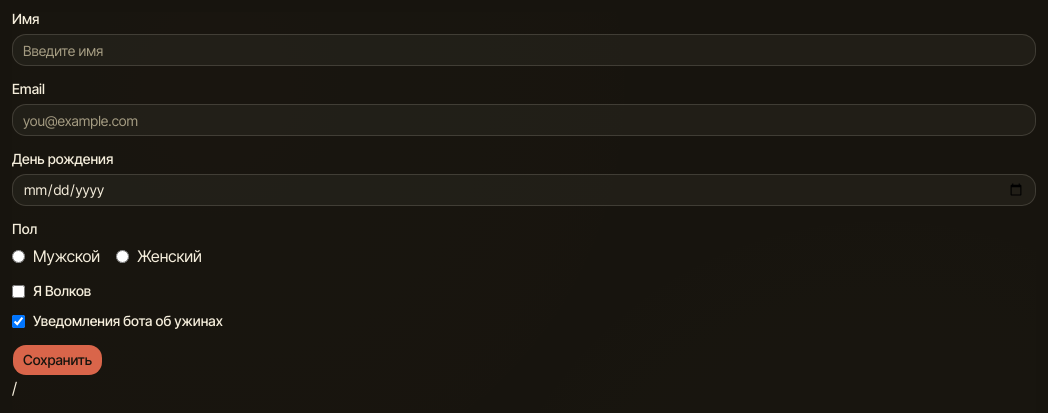
Test: ProfileForm › изменение поля скрывает индикатор 'Сохранено'
The width and height of the screenshot is (1048, 413).
Step 1. Click the button "Сохранить" → (58, 360), box x1=12 y1=344 x2=103 y2=376
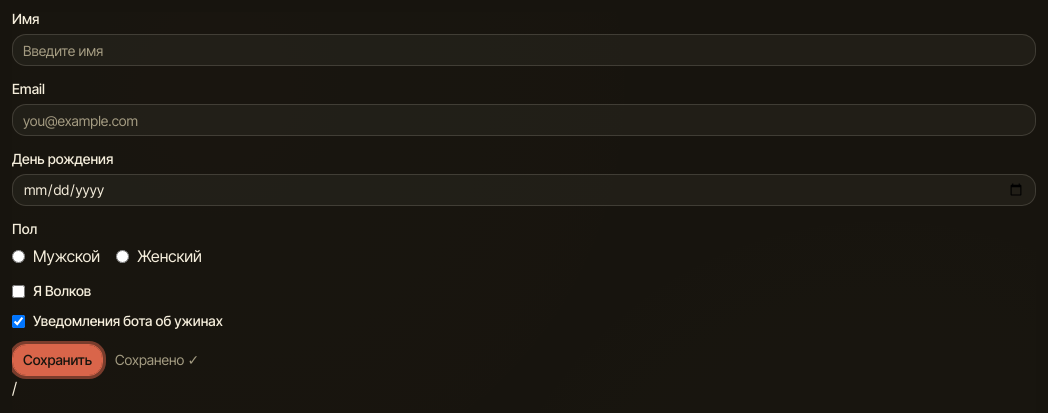
Expected: the text "Сохранено ✓" is shown, x1=115 y1=350 x2=199 y2=370
Step 2. Type "Н" into the field labelled "Имя" → (524, 50), box x1=12 y1=34 x2=1036 y2=66
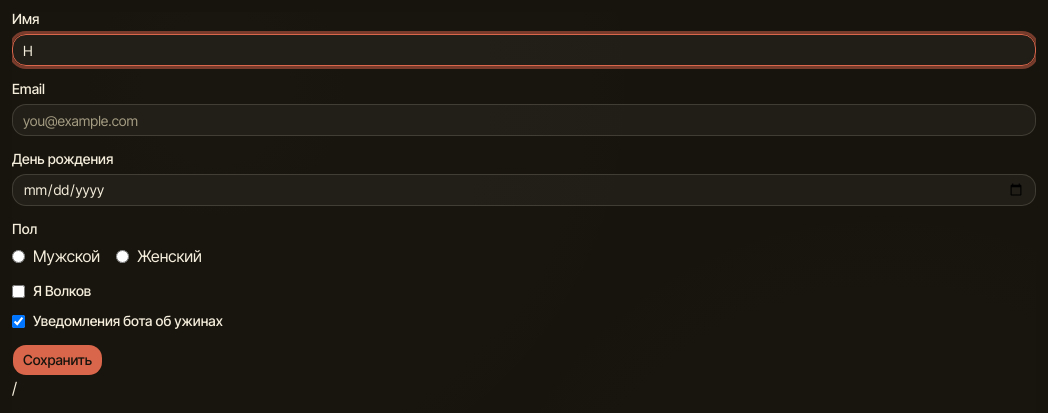
Expected: the text "Сохранено" is gone
